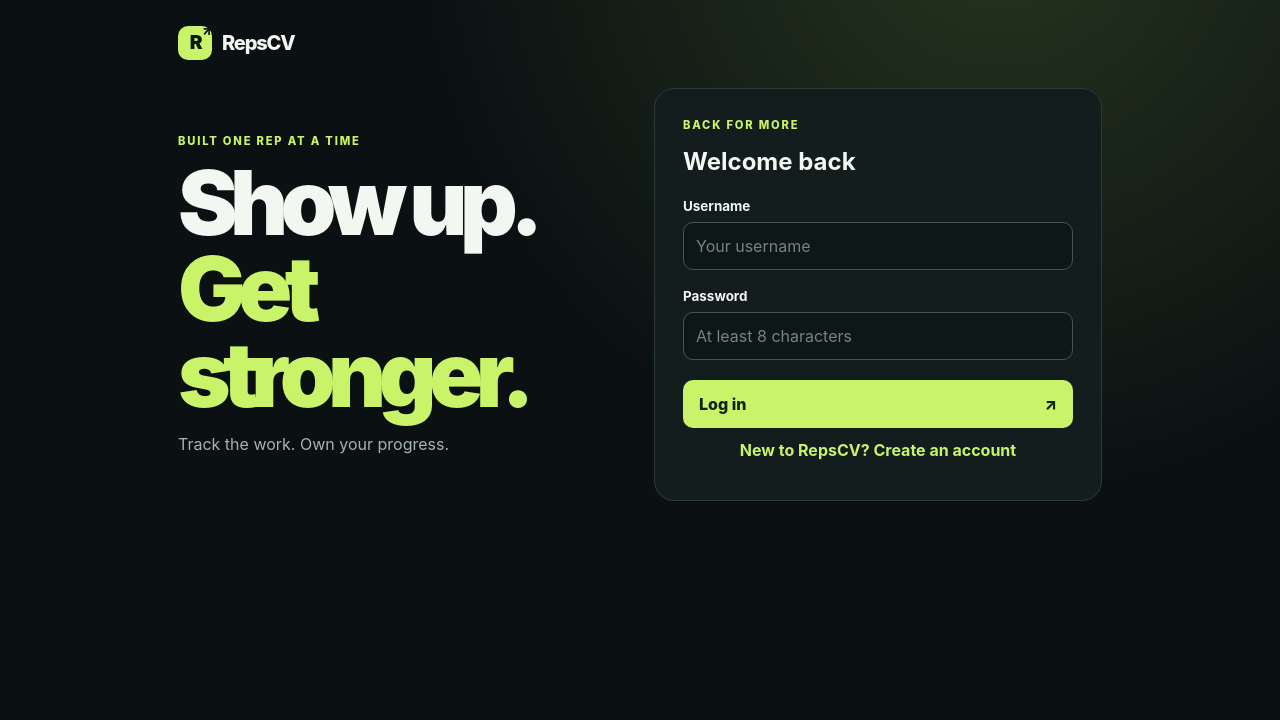
Test case: registration selects a canonical code and keeps department optional
This screenshot has width=1280, height=720.
Later steps or results of the test are not shown.
Click the button "New to RepsCV? Create an account" at [878, 450], box [683,428,1073,472]
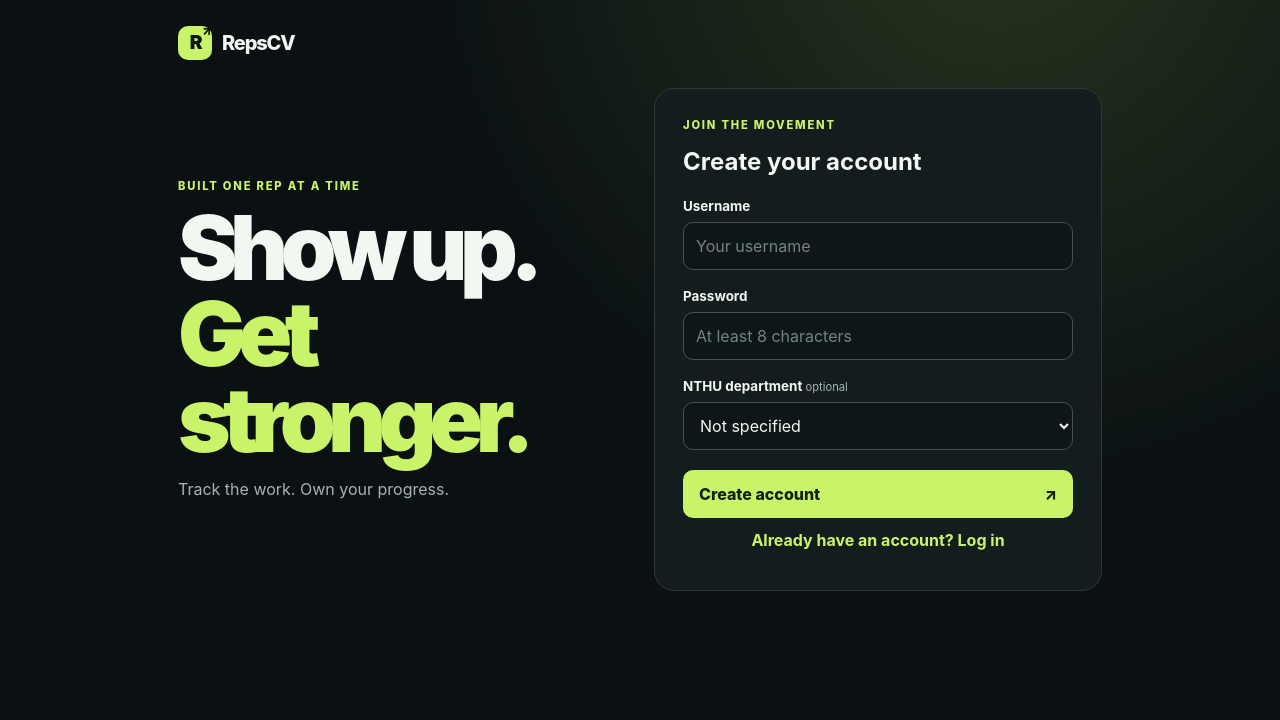
Expected: the dropdown shows "Not specified", [683,402,1073,450]
